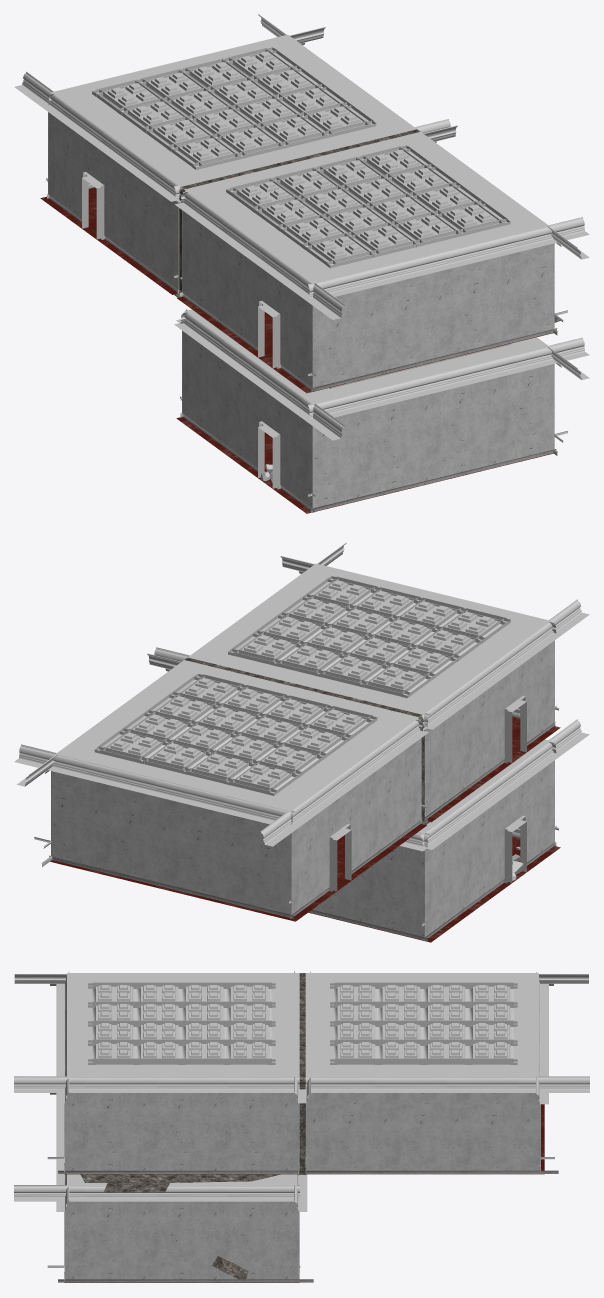
The model's file is Hotelroom2.fbx.
3 renders of one model, top to bottom at view 1: azimuth 30°, elevation 25°; view 2: azimuth 150°, elevation 25°; view 3: azimuth 270°, elevation 25°, orthographic. The views are drawn at different scales.
Visible parts, largest first — view 1: LODGroup_1_MainMesh_1_SubMesh_10, LODGroup_1_MainMesh_1_SubMesh_3_2, LODGroup_1_MainMesh_1_SubMesh_9, LODGroup_1_MainMesh_1_SubMesh_8, LODGroup_1_MainMesh_1_SubMesh_11, LODGroup_1_MainMesh_1_SubMesh_1_2, LODGroup_1_MainMesh_1_SubMesh_7, LODGroup_1_MainMesh_1_SubMesh_6, LODGroup_1_MainMesh_1_SubMesh_4; view 2: LODGroup_1_MainMesh_1_SubMesh_10, LODGroup_1_MainMesh_1_SubMesh_3_2, LODGroup_1_MainMesh_1_SubMesh_9, LODGroup_1_MainMesh_1_SubMesh_8, LODGroup_1_MainMesh_1_SubMesh_11, LODGroup_1_MainMesh_1_SubMesh_1_2, LODGroup_1_MainMesh_1_SubMesh_7, LODGroup_1_MainMesh_1_SubMesh_6, LODGroup_1_MainMesh_1_SubMesh_4; view 3: LODGroup_1_MainMesh_1_SubMesh_10, LODGroup_1_MainMesh_1_SubMesh_3_2, LODGroup_1_MainMesh_1_SubMesh_9, LODGroup_1_MainMesh_1_SubMesh_8, LODGroup_1_MainMesh_1_SubMesh_6, LODGroup_1_MainMesh_1_SubMesh_1_2, LODGroup_1_MainMesh_1_SubMesh_11.
Part boxes in pixels (x1,y1,x2,y2): LODGroup_1_MainMesh_1_SubMesh_10: (48, 112, 554, 508); LODGroup_1_MainMesh_1_SubMesh_3_2: (92, 47, 510, 388); LODGroup_1_MainMesh_1_SubMesh_9: (51, 34, 549, 404); LODGroup_1_MainMesh_1_SubMesh_8: (14, 14, 589, 440); LODGroup_1_MainMesh_1_SubMesh_11: (40, 187, 553, 513); LODGroup_1_MainMesh_1_SubMesh_1_2: (42, 42, 568, 512); LODGroup_1_MainMesh_1_SubMesh_7: (82, 172, 280, 489); LODGroup_1_MainMesh_1_SubMesh_6: (173, 129, 560, 322); LODGroup_1_MainMesh_1_SubMesh_4: (174, 119, 457, 203); LODGroup_1_MainMesh_1_SubMesh_10: (51, 640, 554, 936); LODGroup_1_MainMesh_1_SubMesh_3_2: (94, 576, 510, 795); LODGroup_1_MainMesh_1_SubMesh_9: (55, 563, 550, 833); LODGroup_1_MainMesh_1_SubMesh_8: (14, 542, 589, 851); LODGroup_1_MainMesh_1_SubMesh_11: (50, 716, 560, 942); LODGroup_1_MainMesh_1_SubMesh_1_2: (34, 571, 561, 941); LODGroup_1_MainMesh_1_SubMesh_7: (329, 696, 526, 891); LODGroup_1_MainMesh_1_SubMesh_6: (184, 657, 429, 825); LODGroup_1_MainMesh_1_SubMesh_4: (147, 647, 429, 730); LODGroup_1_MainMesh_1_SubMesh_10: (64, 1093, 540, 1279); LODGroup_1_MainMesh_1_SubMesh_3_2: (88, 982, 517, 1064); LODGroup_1_MainMesh_1_SubMesh_9: (67, 973, 538, 1185); LODGroup_1_MainMesh_1_SubMesh_8: (14, 971, 589, 1211); LODGroup_1_MainMesh_1_SubMesh_6: (80, 973, 306, 1281); LODGroup_1_MainMesh_1_SubMesh_1_2: (47, 983, 558, 1282); LODGroup_1_MainMesh_1_SubMesh_11: (64, 1104, 544, 1282).
Size of the model in its own units: 1650 by 1156 by 2835.
